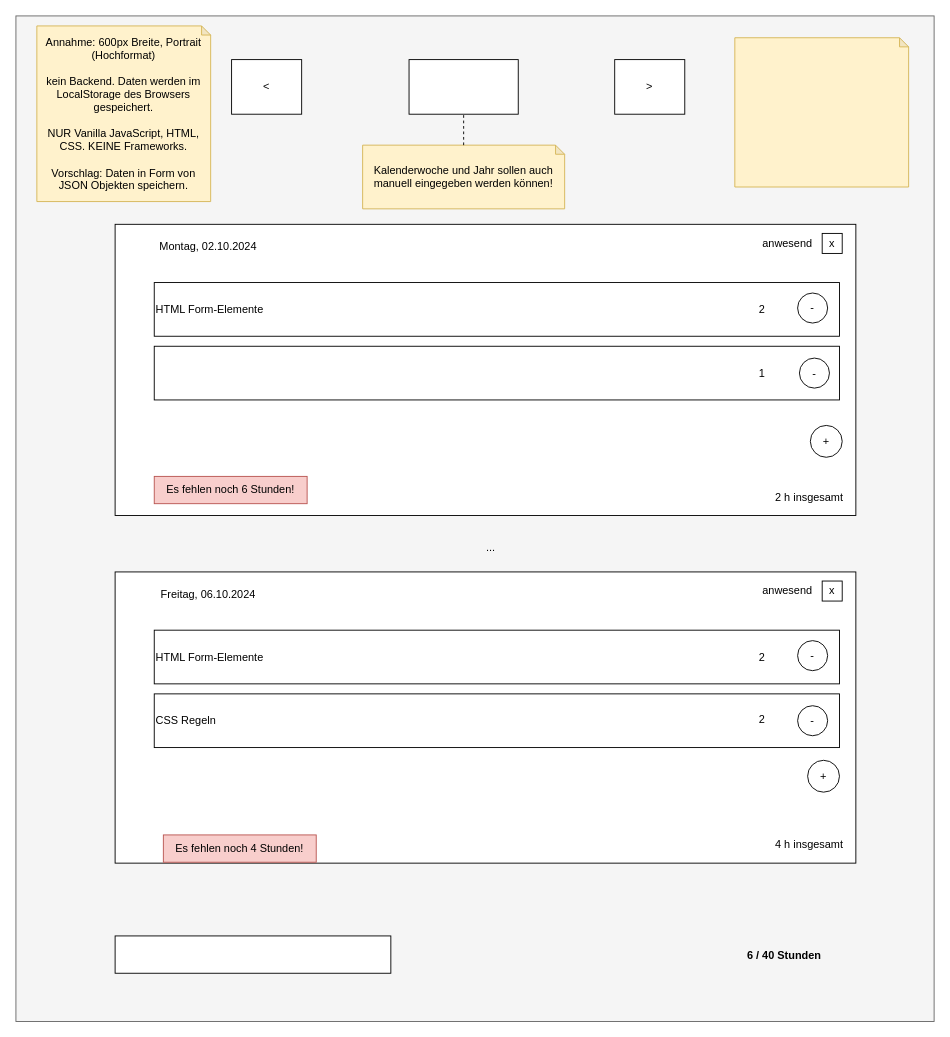
Some shapes in this 950 by 1037 pixel diagram are drawn without their labels. The shapes that lost their labels are listed below. From the top down, each one's box as (x1, y1, x2, y2) in pixels, then its label:
(408, 59, 518, 114): KW 05 / 52 2024
(734, 37, 909, 187): Bewertungskriterium: 1. Funktionalität 2. Responsiveness 3. Design
(153, 345, 839, 400): SELBSTSTUDIUM
(114, 935, 391, 973): Selbststudium-Einträge eintragen
